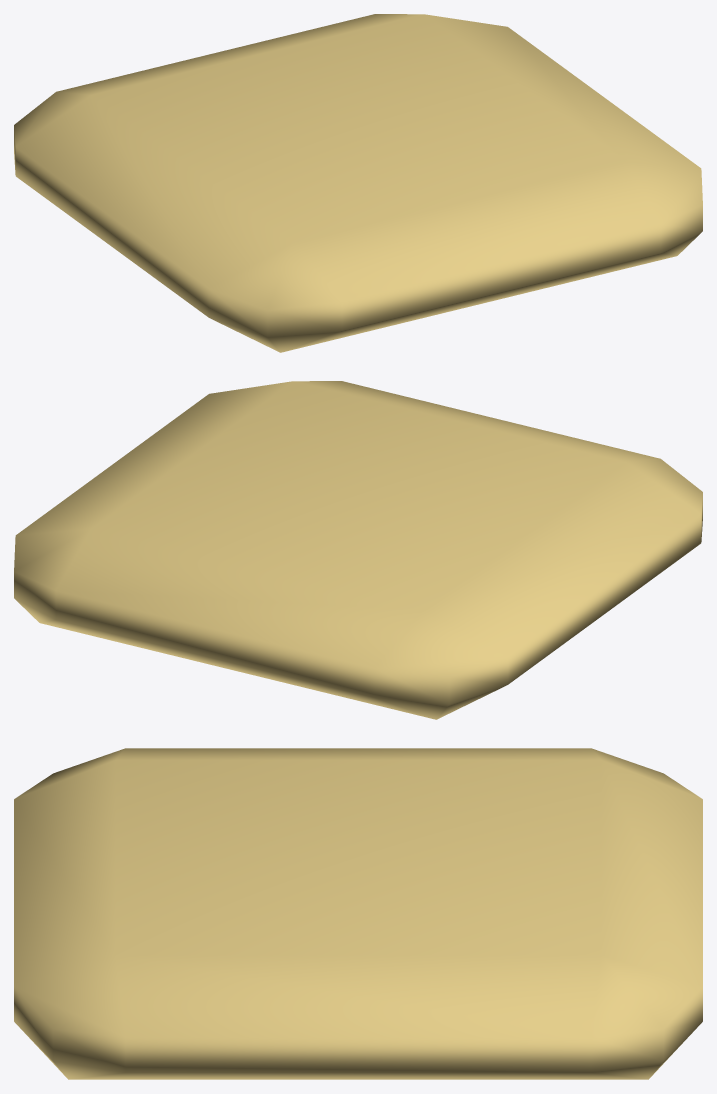
The model's file is Pan_Butter.fbx.
The picture shows the model from 3 angles, top to bottom: view 1: azimuth 30°, elevation 25°; view 2: azimuth 150°, elevation 25°; view 3: azimuth 270°, elevation 25°; orthographic projection. The views are drawn at different scales.
Visible parts, largest first — view 1: Butter; view 2: Butter; view 3: Butter.
Part boxes in pixels (left/top/right/bottom): Butter: left=14, top=14, right=702, bottom=352; Butter: left=14, top=381, right=702, bottom=719; Butter: left=14, top=748, right=702, bottom=1079.
Bounding box in the file's own units: 14.94 × 2.54 × 15.05.
